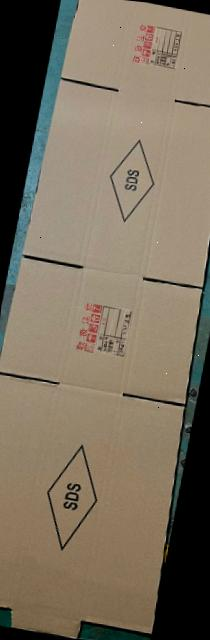box: (0, 0, 210, 638)
